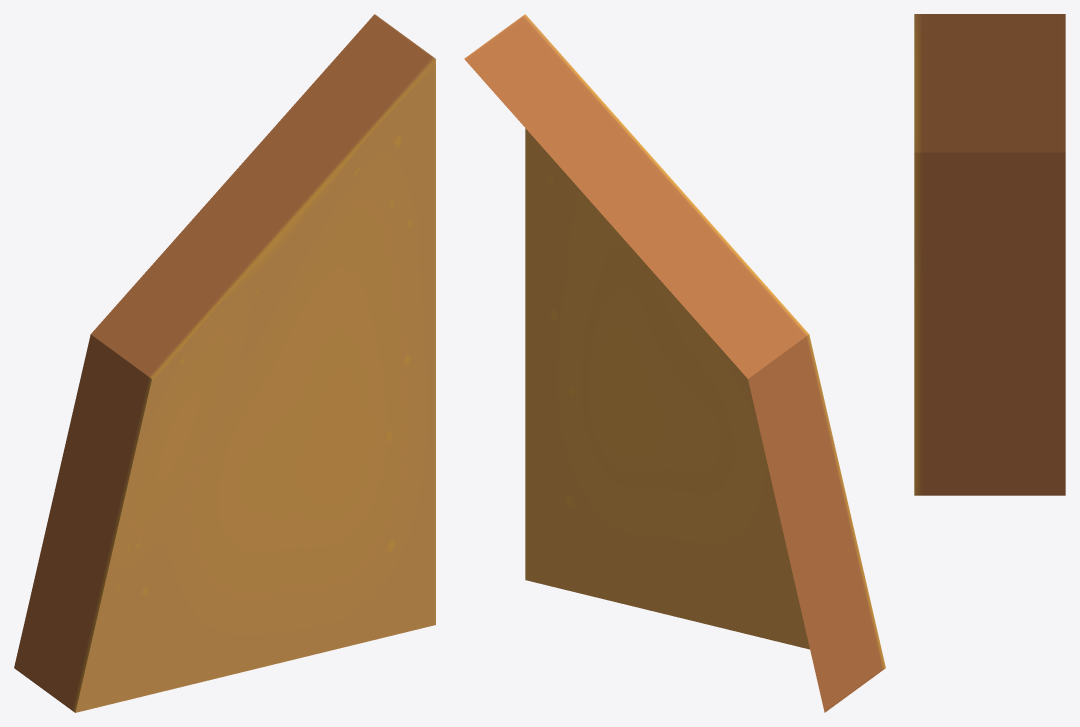
Rendered from desertWallEndMedium_MESH.fbx.
The picture shows the model from 3 angles, left to right: view 1: azimuth 30°, elevation 25°; view 2: azimuth 150°, elevation 25°; view 3: azimuth 270°, elevation 25°; orthographic projection. The views are drawn at different scales.
Visible parts, largest first — view 1: Desert_WallEndMLeft; view 2: Desert_WallEndMLeft; view 3: Desert_WallEndMLeft.
Boxes of the visible parts, x1,y1,x2,y2 form: Desert_WallEndMLeft: [14, 14, 435, 712]; Desert_WallEndMLeft: [464, 14, 885, 712]; Desert_WallEndMLeft: [914, 14, 1065, 495].
Size of the model in its own units: 100 by 150 by 29.44.
